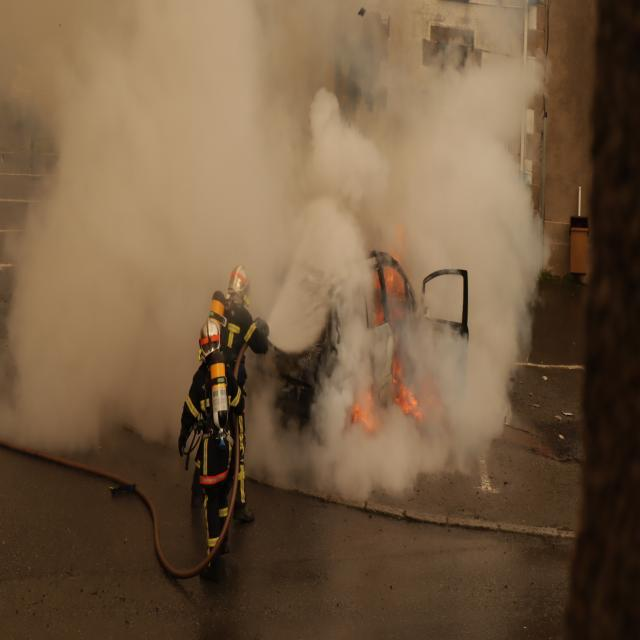Smoke: (41, 13, 538, 253)
